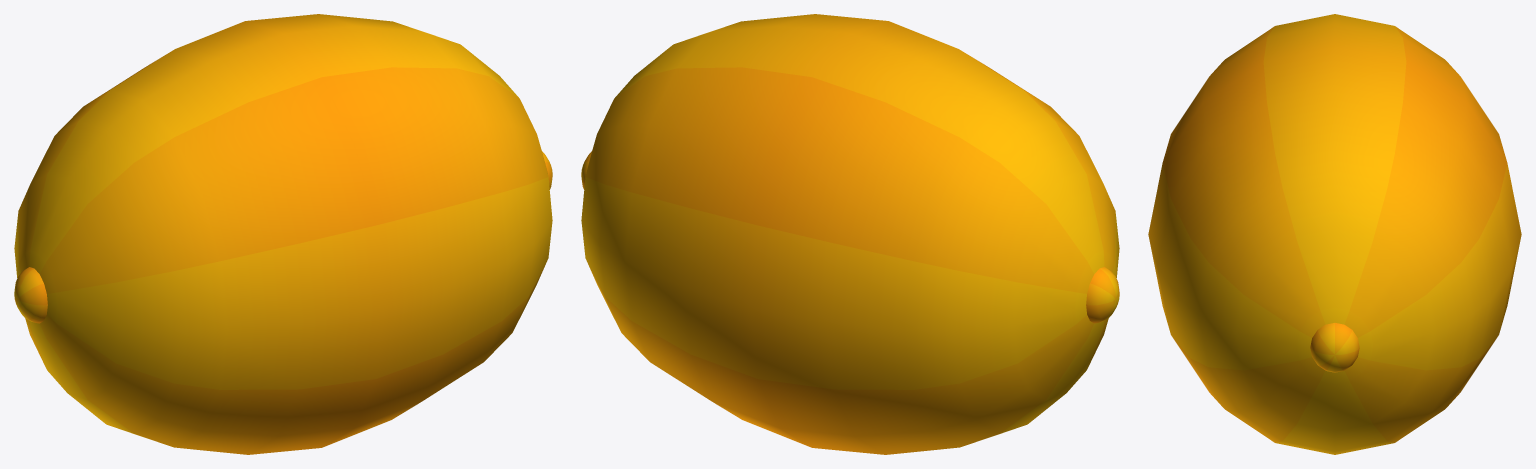
The model's file is Lemon.fbx.
3 views of the same model, side by side, from view 1: azimuth 30°, elevation 25°; view 2: azimuth 150°, elevation 25°; view 3: azimuth 270°, elevation 25° (orthographic). The views are drawn at different scales.
Visible parts, largest first — view 1: Lemon; view 2: Lemon; view 3: Lemon.
Boxes of the visible parts, x1=… form: Lemon: x1=14, y1=14, x2=552, y2=454; Lemon: x1=581, y1=14, x2=1119, y2=454; Lemon: x1=1148, y1=14, x2=1521, y2=454.
Size of the model in its own units: 78.26 by 56.6 by 51.25.
